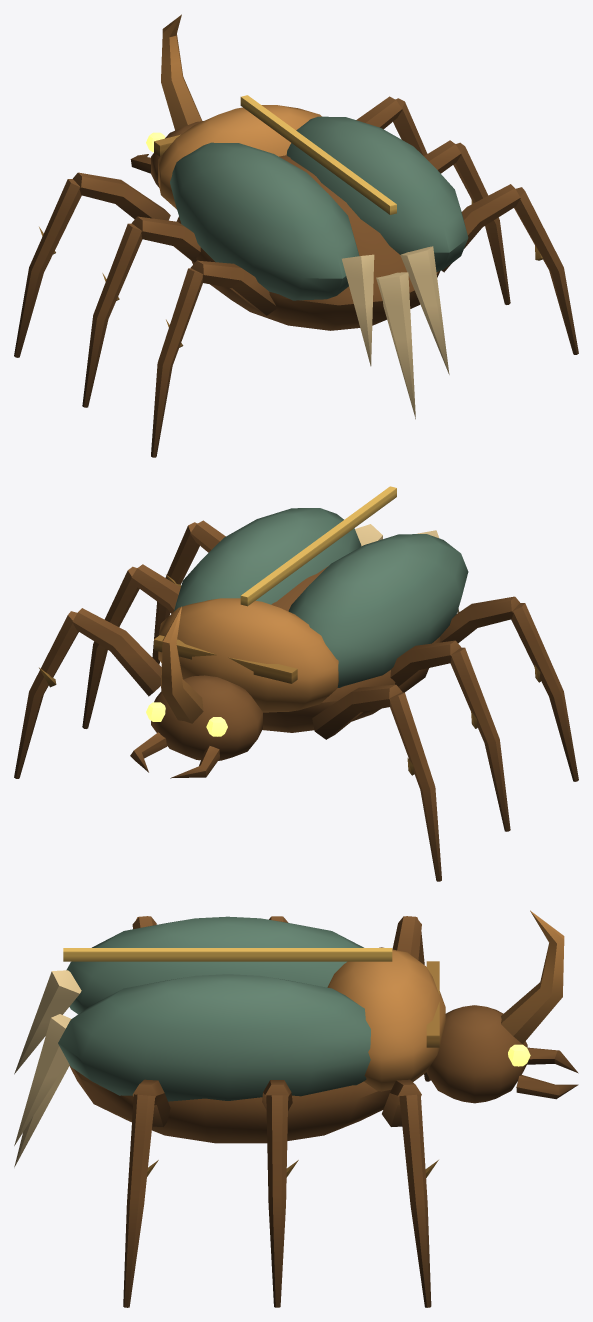
Rendered from mob_dune_scarab.fbx.
3 renders of one model, top to bottom at view 1: azimuth 30°, elevation 25°; view 2: azimuth 150°, elevation 25°; view 3: azimuth 270°, elevation 25°, orthographic. The views are drawn at different scales.
Visible parts, largest first — view 1: Body, ExtraElytraL, ExtraElytraR, Knee-1_2, Knee-1_3, Knee-1_1, Head, Knee1_3, Leg-1_1, Leg-1_3, Knee1_2, Leg1_3 (+4 smaller); view 2: Body, ExtraElytraL, ExtraElytraR, Head, Knee-1_2, Knee-1_1, Leg1_1, Knee-1_3, Knee1_1, Leg-1_1, Knee1_2, Leg-1_3 (+7 smaller); view 3: ExtraElytraR, Body, ExtraElytraL, Head, Knee1_2, Knee1_1, Knee1_3, Leg-1_1, Leg1_1, Leg1_3, JawR, JawL.
Part boxes in pixels (<box>): Body: <box>154,95,449,419</box>; ExtraElytraL: <box>170,142,359,300</box>; ExtraElytraR: <box>286,116,468,272</box>; Knee-1_2: <box>82,223,142,407</box>; Knee-1_3: <box>151,268,202,457</box>; Knee-1_1: <box>14,179,81,357</box>; Head: <box>151,14,203,187</box>; Knee1_3: <box>514,187,578,354</box>; Leg-1_1: <box>73,172,170,220</box>; Leg-1_3: <box>190,260,276,315</box>; Knee1_2: <box>453,142,510,304</box>; Leg1_3: <box>442,184,520,272</box>; Body: <box>154,486,459,732</box>; ExtraElytraL: <box>288,534,468,687</box>; ExtraElytraR: <box>174,508,361,611</box>; Head: <box>151,606,262,760</box>; Knee-1_2: <box>450,647,510,831</box>; Knee-1_1: <box>390,692,441,881</box>; Leg1_1: <box>72,608,161,696</box>; Knee-1_3: <box>511,603,578,781</box>; Knee1_1: <box>14,611,78,778</box>; Leg-1_1: <box>312,684,402,739</box>; Knee1_2: <box>82,566,139,728</box>; Leg-1_3: <box>439,596,519,643</box>; ExtraElytraR: <box>58,974,370,1101</box>; Body: <box>14,947,445,1167</box>; ExtraElytraL: <box>66,916,363,1014</box>; Head: <box>426,910,564,1103</box>; Knee1_2: <box>266,1095,298,1307</box>; Knee1_1: <box>399,1094,438,1307</box>; Knee1_3: <box>123,1094,158,1307</box>; Leg-1_1: <box>392,916,421,959</box>; Leg1_1: <box>382,1079,421,1126</box>; Leg1_3: <box>132,1079,170,1126</box>; JawR: <box>516,1075,578,1099</box>; JawL: <box>527,1047,578,1073</box>.
Bounding box in the file's own units: 496 × 286 × 515.
Materials: 2 (1 with a texture image).
